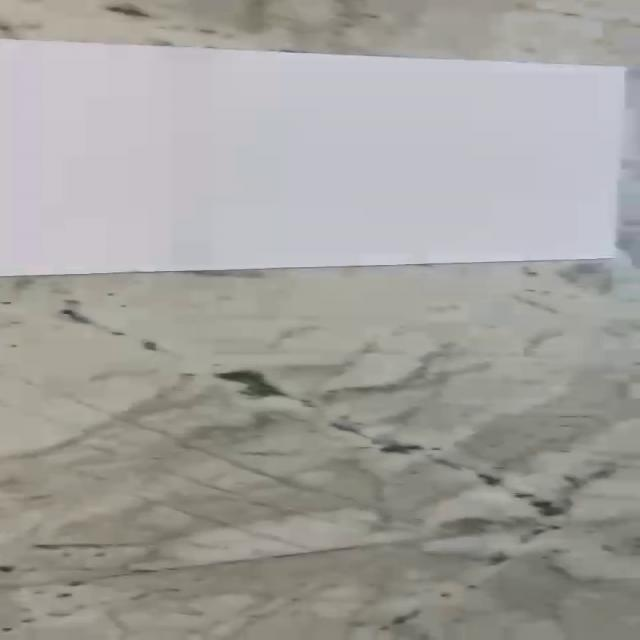road: (0, 38, 640, 277)
